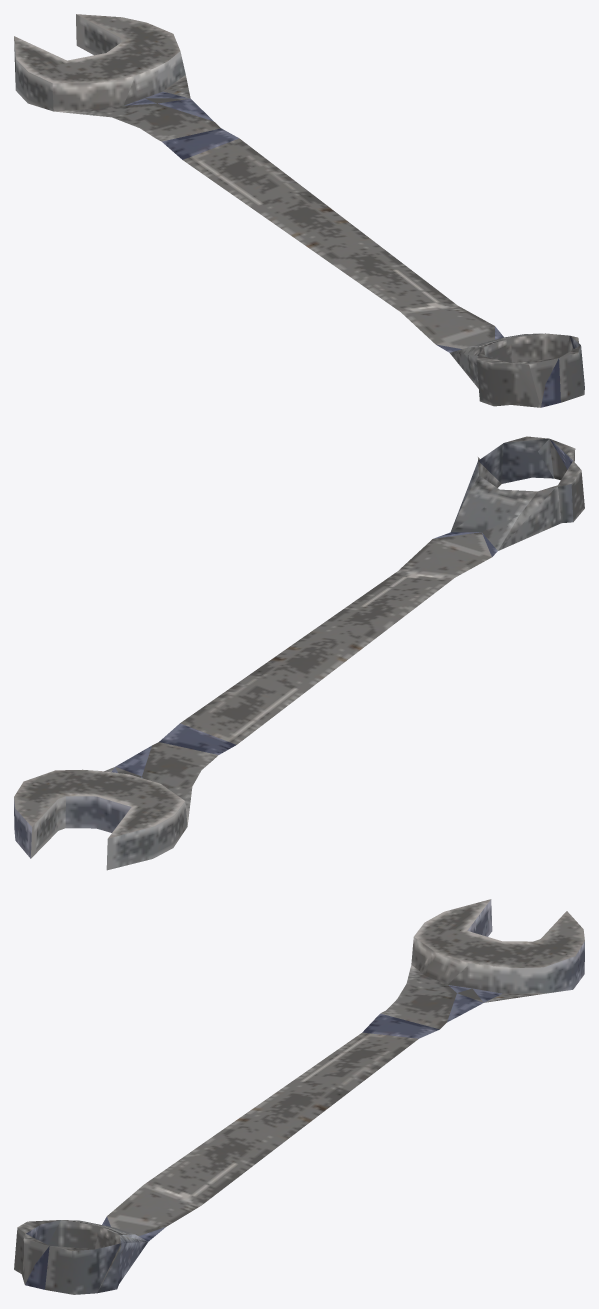
Rendered from combination_wrench.glb.
3 renders of one model, top to bottom at view 1: azimuth 30°, elevation 25°; view 2: azimuth 150°, elevation 25°; view 3: azimuth 330°, elevation 25°, orthographic.
Parts seen in each view (by area): view 1: mesh; view 2: mesh; view 3: mesh.
Part boxes in pixels (x1=…): mesh: x1=14, y1=14, x2=584, y2=407; mesh: x1=14, y1=436, x2=584, y2=870; mesh: x1=14, y1=899, x2=584, y2=1294.
Size of the model in its own units: 0.0566 by 0.0215 by 0.3342.
1 material, 1 textured.
